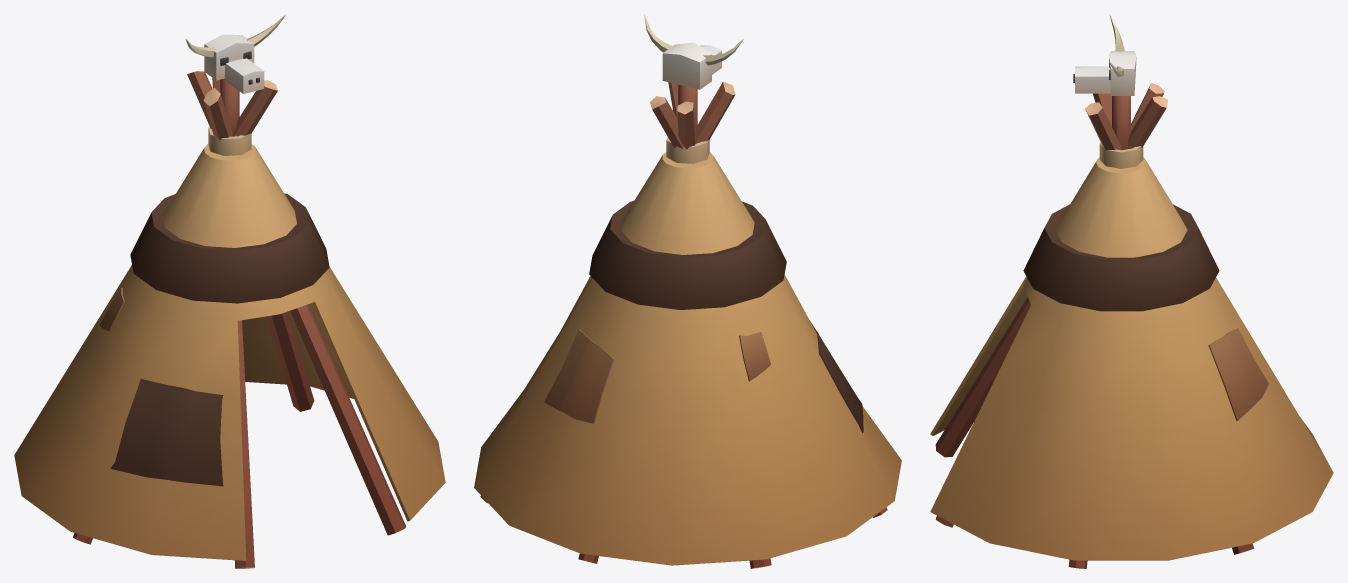
File: tent_hide_B.fbx
3 renders of one model, left to right at view 1: azimuth 30°, elevation 25°; view 2: azimuth 150°, elevation 25°; view 3: azimuth 270°, elevation 25°, orthographic. The views are drawn at different scales.
Parts seen in each view (by area): view 1: tent_hide_B; view 2: tent_hide_B; view 3: tent_hide_B.
Part boxes in pixels (bbox=[...]): tent_hide_B: bbox=[14, 14, 445, 568]; tent_hide_B: bbox=[474, 14, 901, 568]; tent_hide_B: bbox=[930, 14, 1333, 568].
Size of the model in its own units: 1.36 by 1.65 by 1.33.
1 material, 1 textured.
